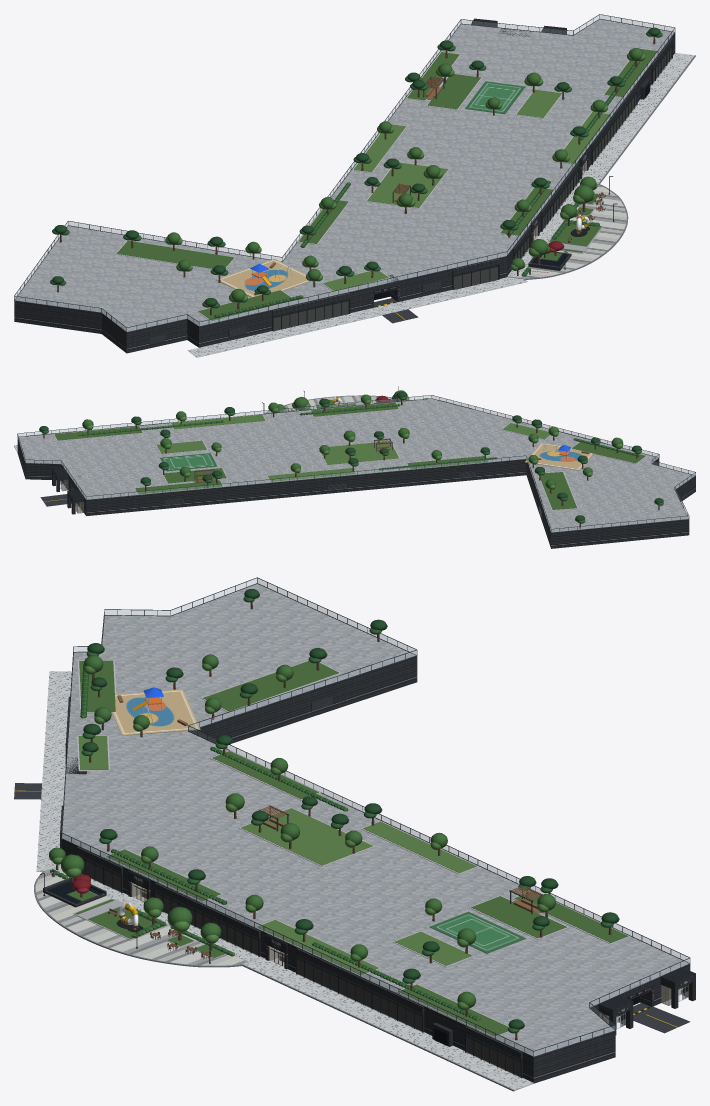
File: 금파힐_남커뮤.glb
3 renders of one model, top to bottom at view 1: azimuth 30°, elevation 25°; view 2: azimuth 150°, elevation 25°; view 3: azimuth 270°, elevation 25°, orthographic. The views are drawn at different scales.
Visible parts, largest first — view 1: KumhoParkHills_Unified_Community_With_FrontPark, Rooftop_Park_Landscaping, Community_Front_Curved_Park; view 2: KumhoParkHills_Unified_Community_With_FrontPark, Rooftop_Park_Landscaping, Community_Front_Curved_Park; view 3: KumhoParkHills_Unified_Community_With_FrontPark, Rooftop_Park_Landscaping, Community_Front_Curved_Park.
Boxes of the visible parts, left/top/right/bottom form: KumhoParkHills_Unified_Community_With_FrontPark: left=14, top=14, right=695, bottom=357; Rooftop_Park_Landscaping: left=50, top=27, right=662, bottom=321; Community_Front_Curved_Park: left=507, top=176, right=628, bottom=279; KumhoParkHills_Unified_Community_With_FrontPark: left=14, top=395, right=695, bottom=548; Rooftop_Park_Landscaping: left=39, top=391, right=663, bottom=528; Community_Front_Curved_Park: left=262, top=386, right=427, bottom=413; KumhoParkHills_Unified_Community_With_FrontPark: left=14, top=577, right=695, bottom=1091; Rooftop_Park_Landscaping: left=77, top=589, right=630, bottom=1040; Community_Front_Curved_Park: left=34, top=847, right=261, bottom=967.
Bounding box in the file's own units: 207 × 10.36 × 124.
Materials: 207 (30 with a texture image).
